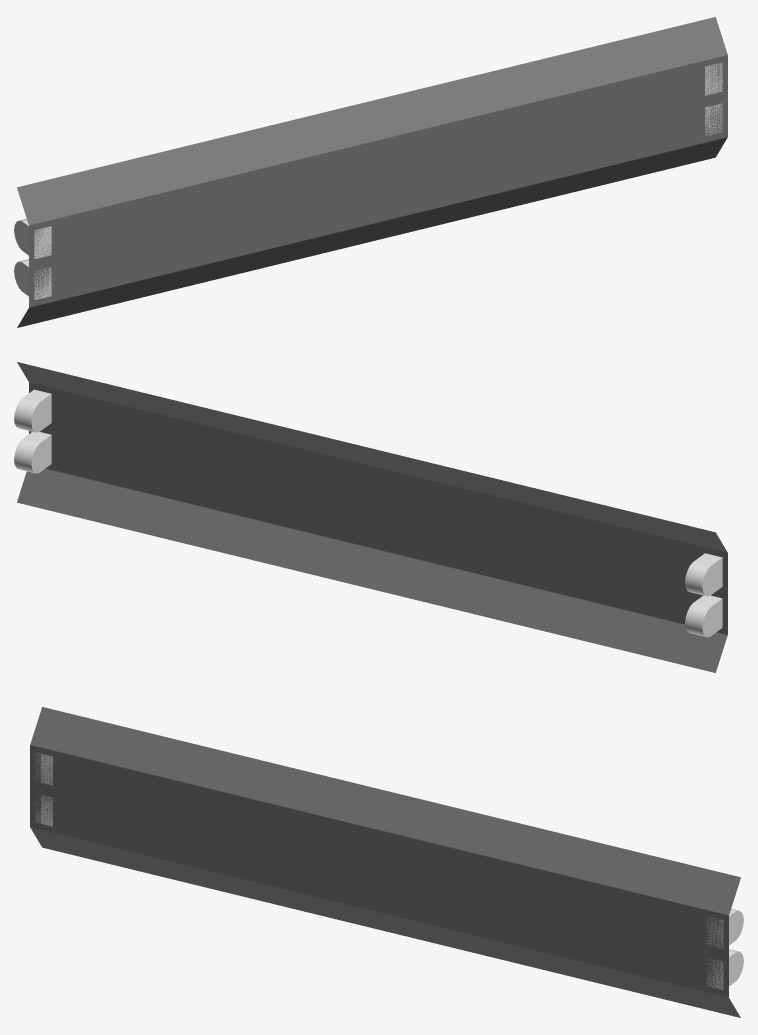
Rendered from Light_Deng5_1X1_on.FBX.
The picture shows the model from 3 angles, top to bottom: view 1: azimuth 30°, elevation 25°; view 2: azimuth 150°, elevation 25°; view 3: azimuth 330°, elevation 25°; orthographic projection.
Visible parts, largest first — view 1: Box001; view 2: Box001; view 3: Box001.
Boxes of the visible parts, x1=… form: Box001: x1=14, y1=17, x2=727, y2=327; Box001: x1=14, y1=362, x2=727, y2=672; Box001: x1=30, y1=707, x2=743, y2=1017.
Size of the model in its own units: 5 by 0.9998 by 0.45.
